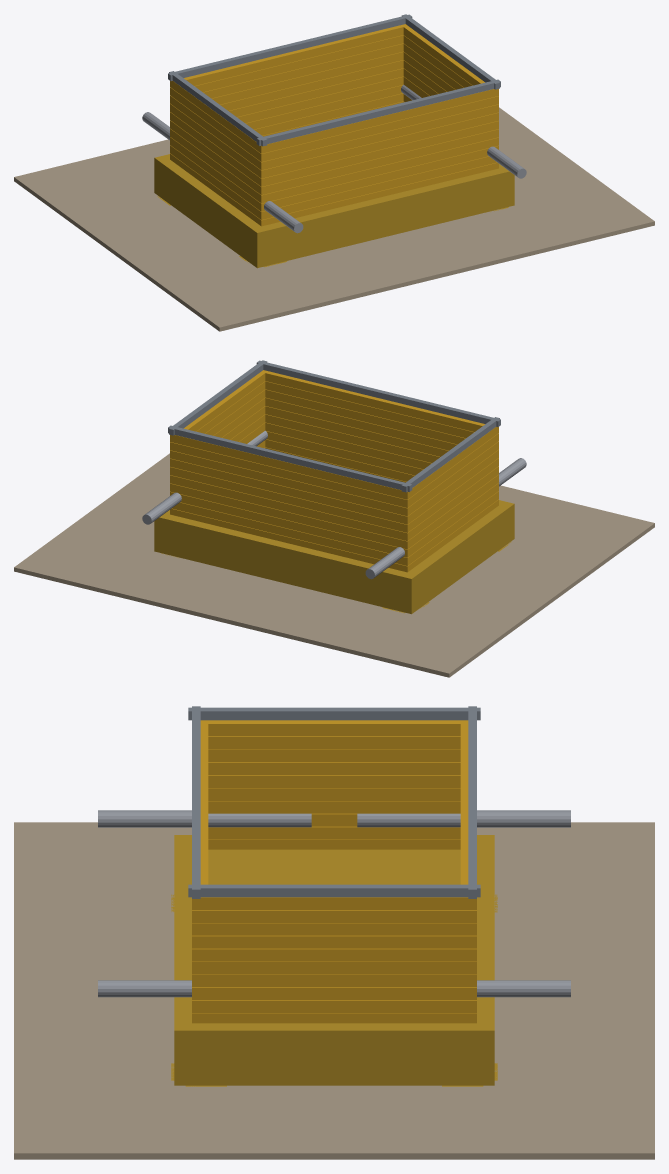
File: stage_06_walls.glb
3 views of the same model, one above another, from view 1: azimuth 30°, elevation 25°; view 2: azimuth 150°, elevation 25°; view 3: azimuth 270°, elevation 25° (orthographic). The views are drawn at different scales.
Parts seen in each view (by area): view 1: world; view 2: world; view 3: world.
Boxes of the visible parts, x1,y1,x2,y2 form: world: (14, 14, 654, 331); world: (14, 360, 654, 677); world: (14, 706, 654, 1159).
Size of the model in its own units: 11 by 3.74 by 9.
